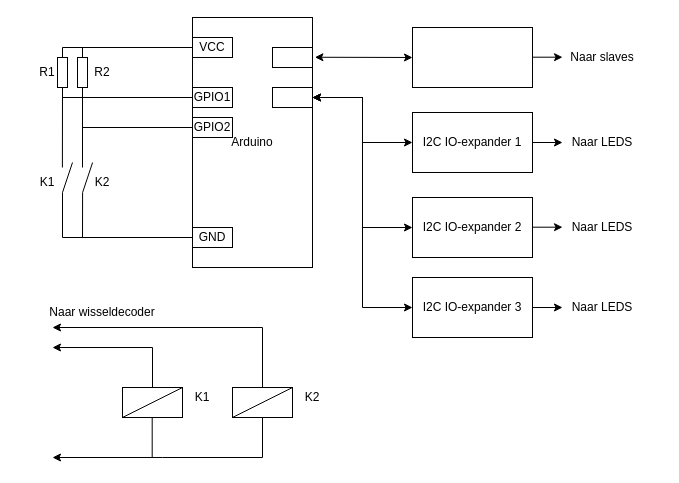
This 679x483 diagram has some shape labels left out. Each missing label, with the centre of its shape:
I2C: point 292,97
RS485-transceiver: point 472,57
UART: point 292,57
